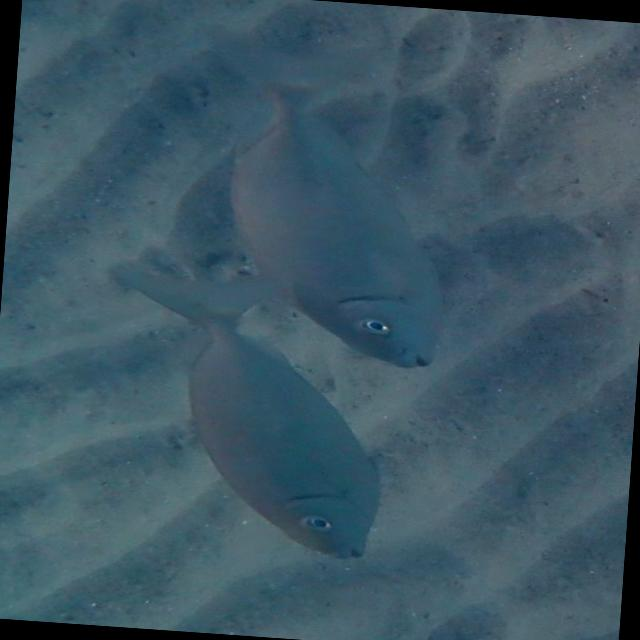Sokar Baligi: (183, 28, 490, 375)
